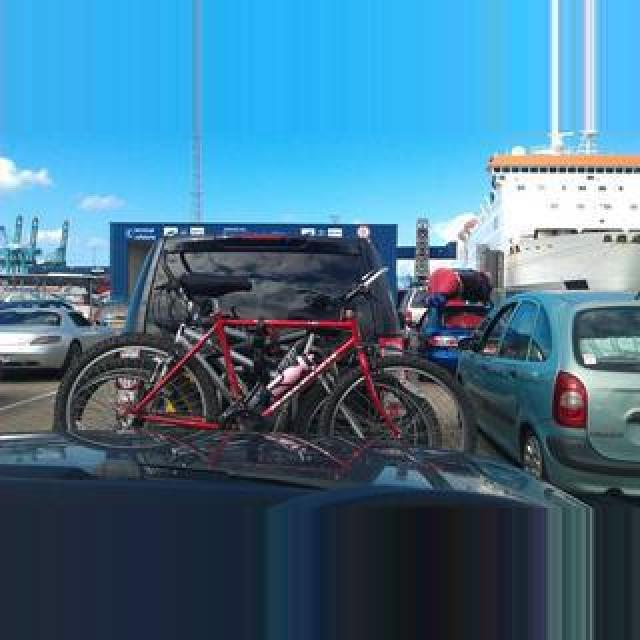Bus-Bike: (454, 290, 640, 496), (0, 302, 116, 380)
Person: (68, 268, 460, 452)
